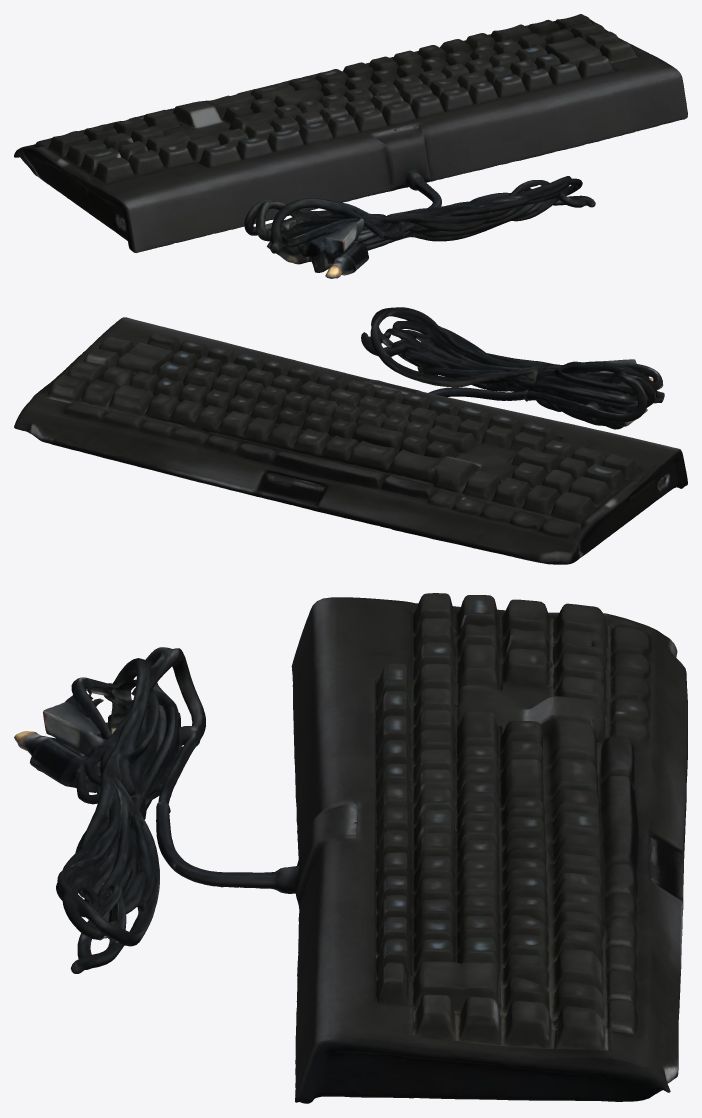
The model's file is Razer_BlackWidow_Ultimate_2014_Mechanical_Gaming_Keyboard.glb.
The picture shows the model from 3 angles, top to bottom: view 1: azimuth 30°, elevation 25°; view 2: azimuth 150°, elevation 25°; view 3: azimuth 270°, elevation 25°; orthographic projection. The views are drawn at different scales.
Visible parts, largest first — view 1: geometry_0; view 2: geometry_0; view 3: geometry_0.
Part boxes in pixels (x1,y1,x2,y2): geometry_0: (14, 14, 687, 278); geometry_0: (14, 307, 687, 564); geometry_0: (14, 593, 687, 1103).
Bounding box in the file's own units: 1 × 0.1147 × 0.6485.
1 material, 1 textured.
